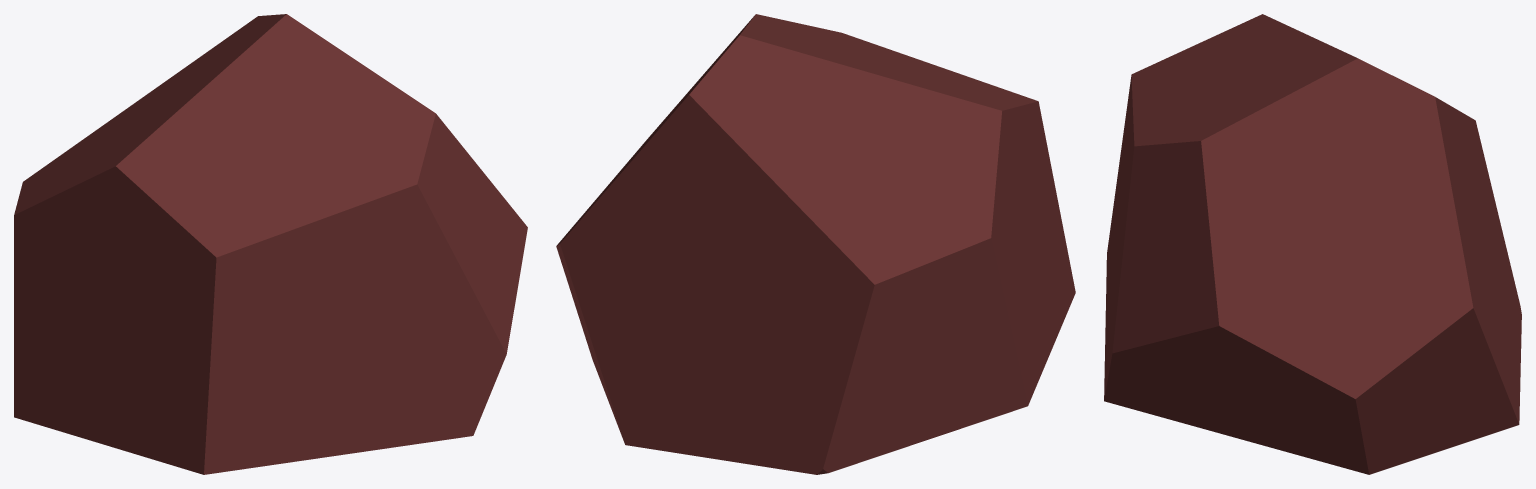
File: rock_4.fbx
3 views of the same model, side by side, from view 1: azimuth 30°, elevation 25°; view 2: azimuth 150°, elevation 25°; view 3: azimuth 270°, elevation 25° (orthographic). The views are drawn at different scales.
Parts seen in each view (by area): view 1: Icosphere; view 2: Icosphere; view 3: Icosphere.
Part boxes in pixels (x1=…): Icosphere: x1=14, y1=14, x2=527, y2=474; Icosphere: x1=556, y1=14, x2=1075, y2=474; Icosphere: x1=1104, y1=14, x2=1521, y2=474.
Size of the model in its own units: 181 by 134 by 145.
